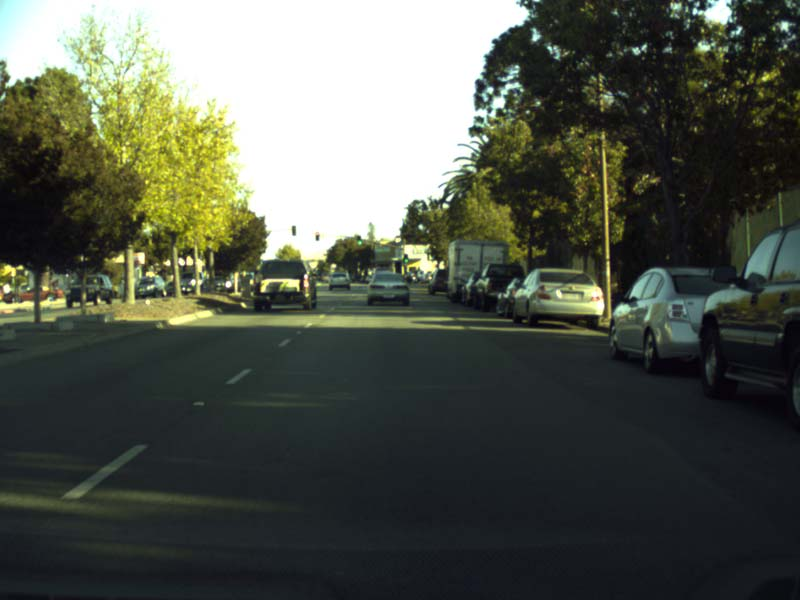Green: (403, 253, 408, 263), (356, 236, 361, 244)
Red: (315, 231, 319, 240)
